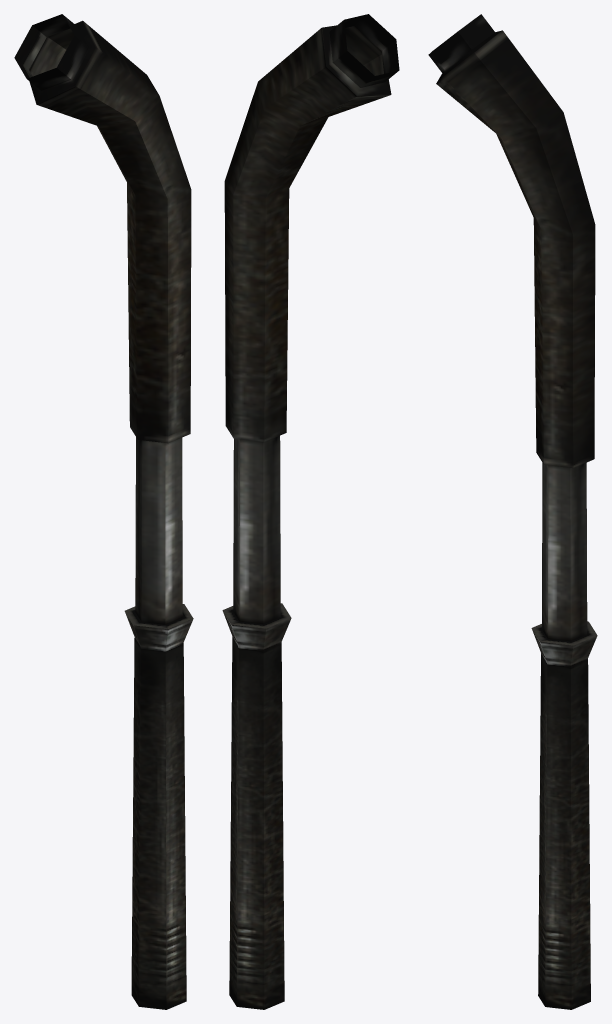
Rendered from Handaxe_grip_default.FBX.
3 renders of one model, left to right at view 1: azimuth 30°, elevation 25°; view 2: azimuth 150°, elevation 25°; view 3: azimuth 330°, elevation 25°, orthographic. The views are drawn at different scales.
Visible parts, largest first — view 1: Handaxe_grip_default; view 2: Handaxe_grip_default; view 3: Handaxe_grip_default.
Boxes of the visible parts, left/top/right/bottom form: Handaxe_grip_default: left=14, top=14, right=193, bottom=1009; Handaxe_grip_default: left=222, top=14, right=399, bottom=1009; Handaxe_grip_default: left=428, top=14, right=597, bottom=1009.
Size of the model in its own units: 11.89 by 68.11 by 5.35.
Materials: 1 (1 with a texture image).
